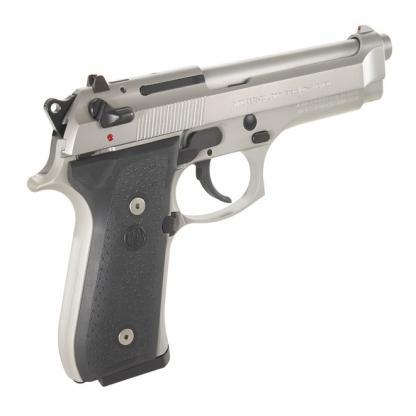Pistol: (10, 14, 414, 394)
